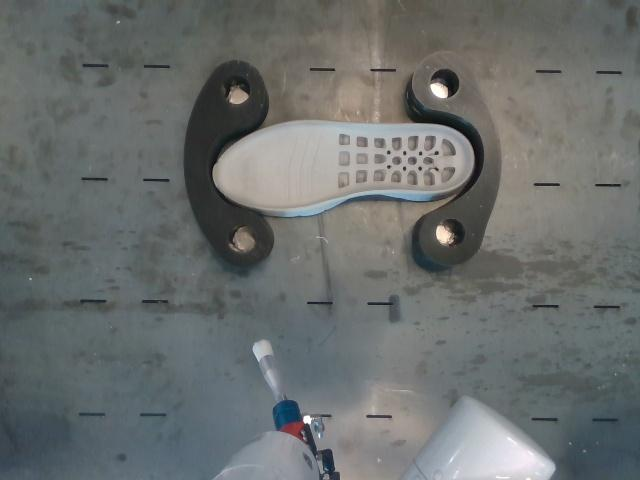shoes: (213, 120, 474, 210)
